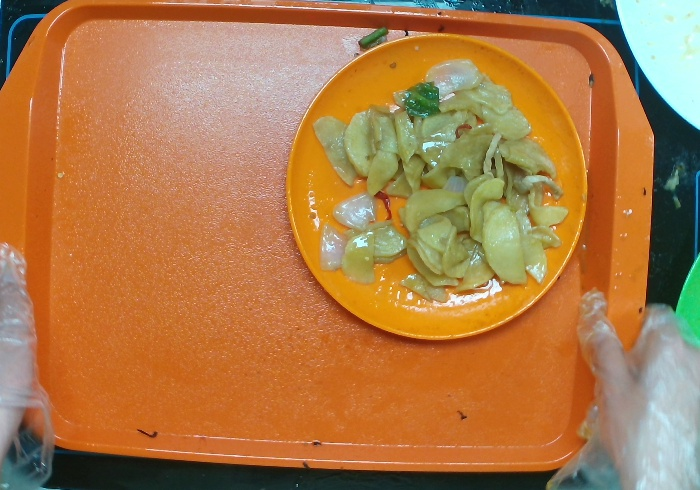HZYJPL-Ju_Huang_Yuan_Pan: (284, 33, 592, 346)
